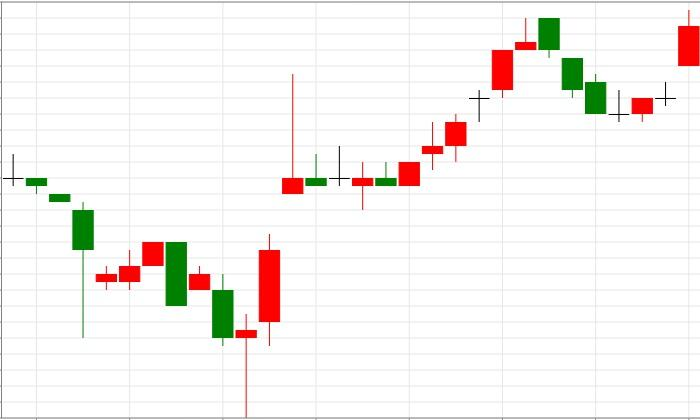morning_star_rise: (141, 234, 281, 418), (538, 18, 655, 122)
shooting_star_fall: (235, 74, 304, 418)
